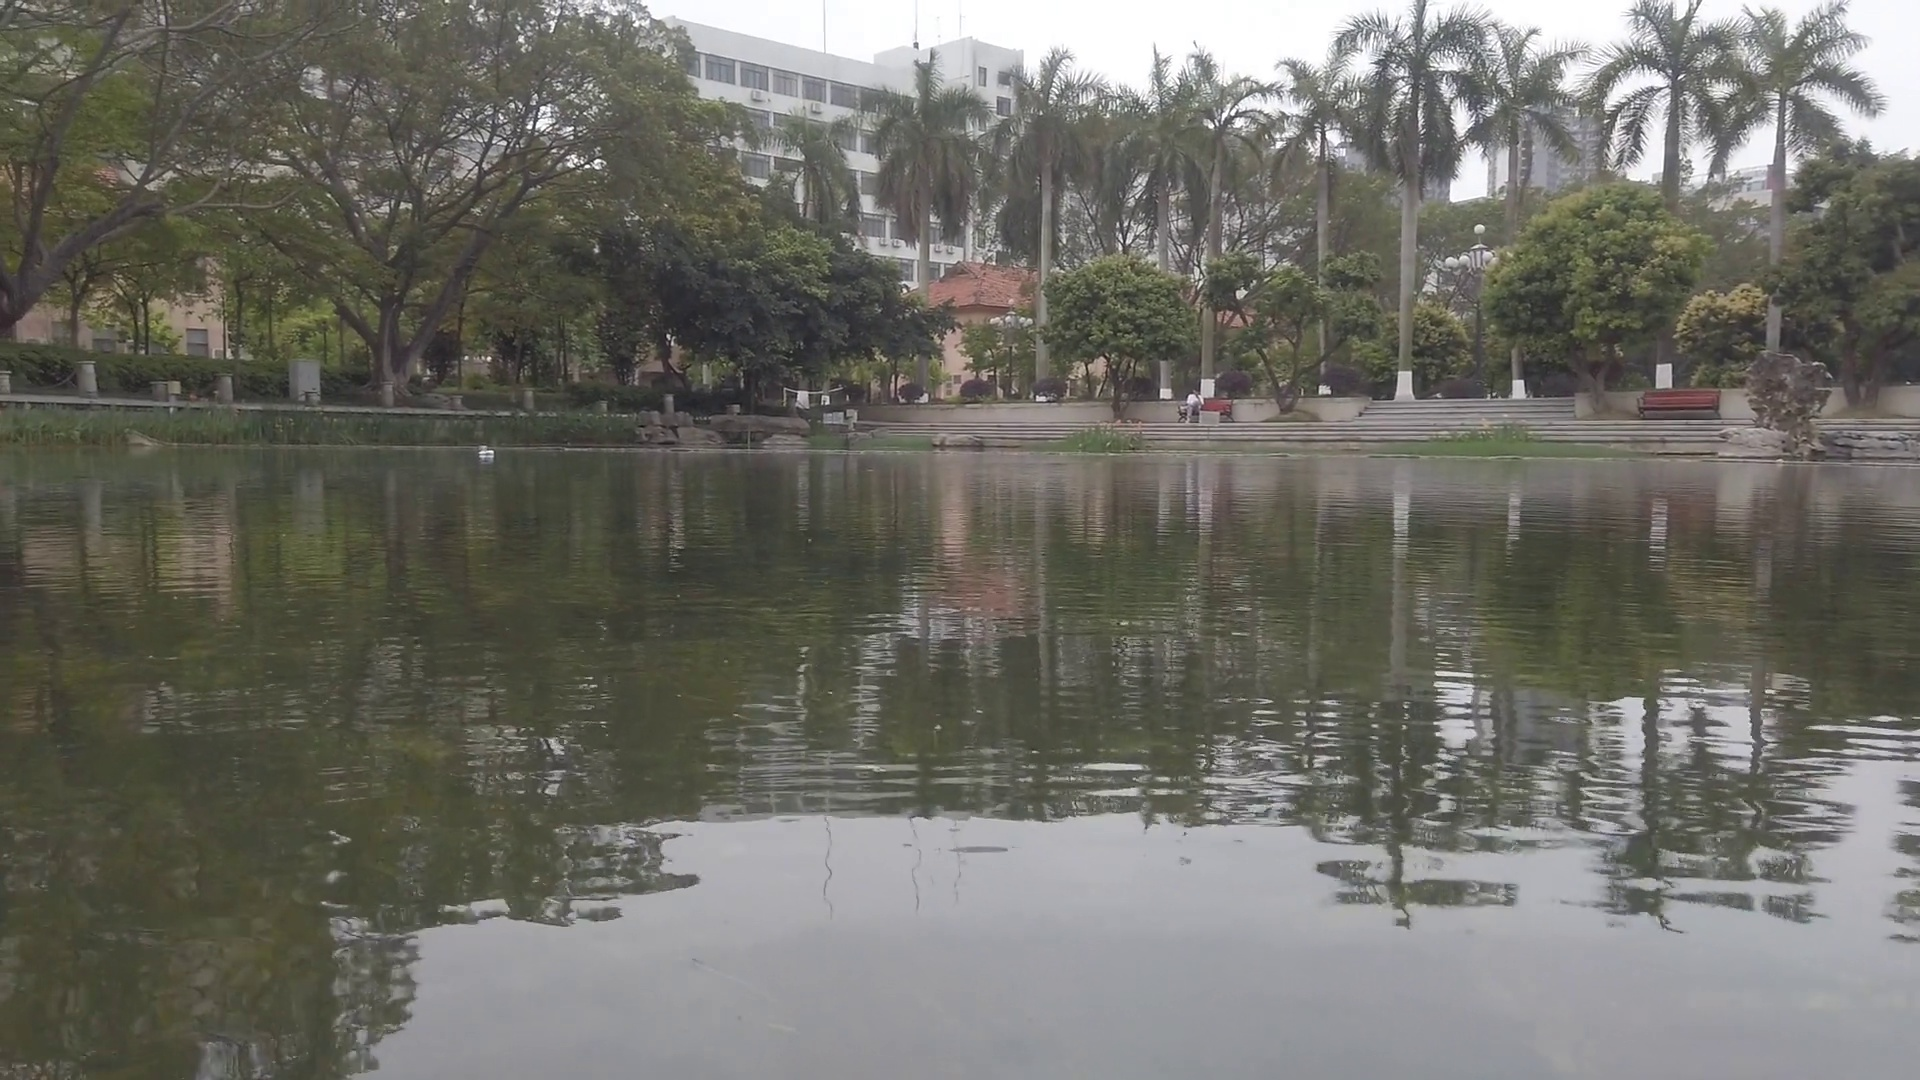bottle: (479, 448, 497, 460)
